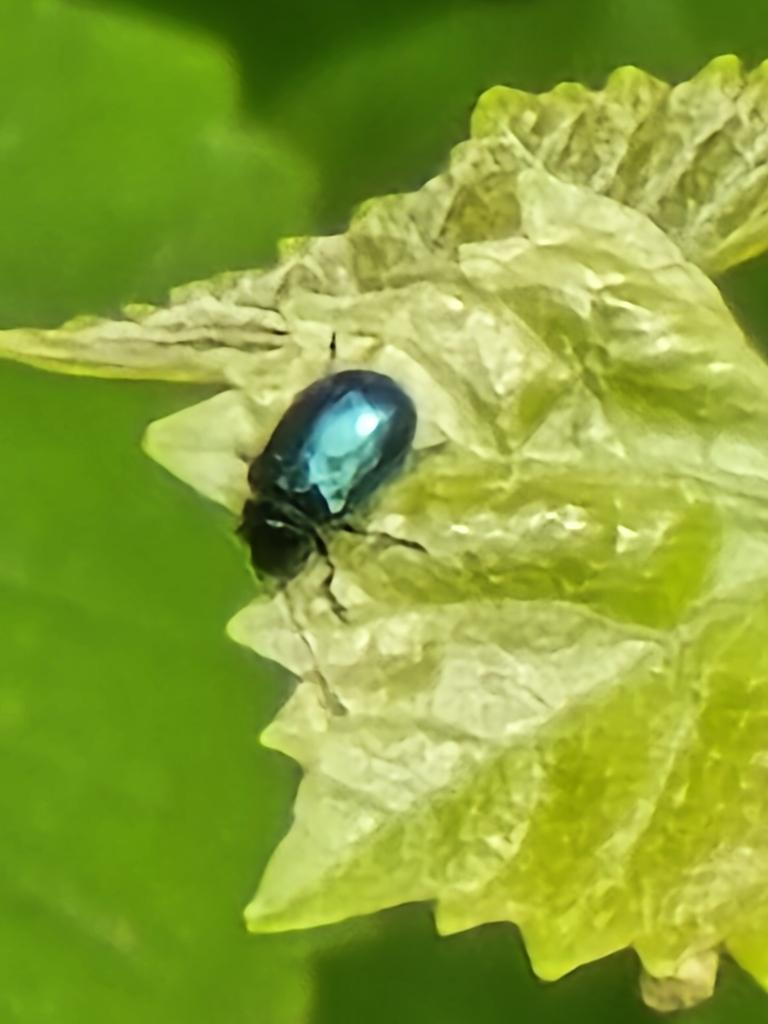flea_beetle: (182, 306, 480, 696)
